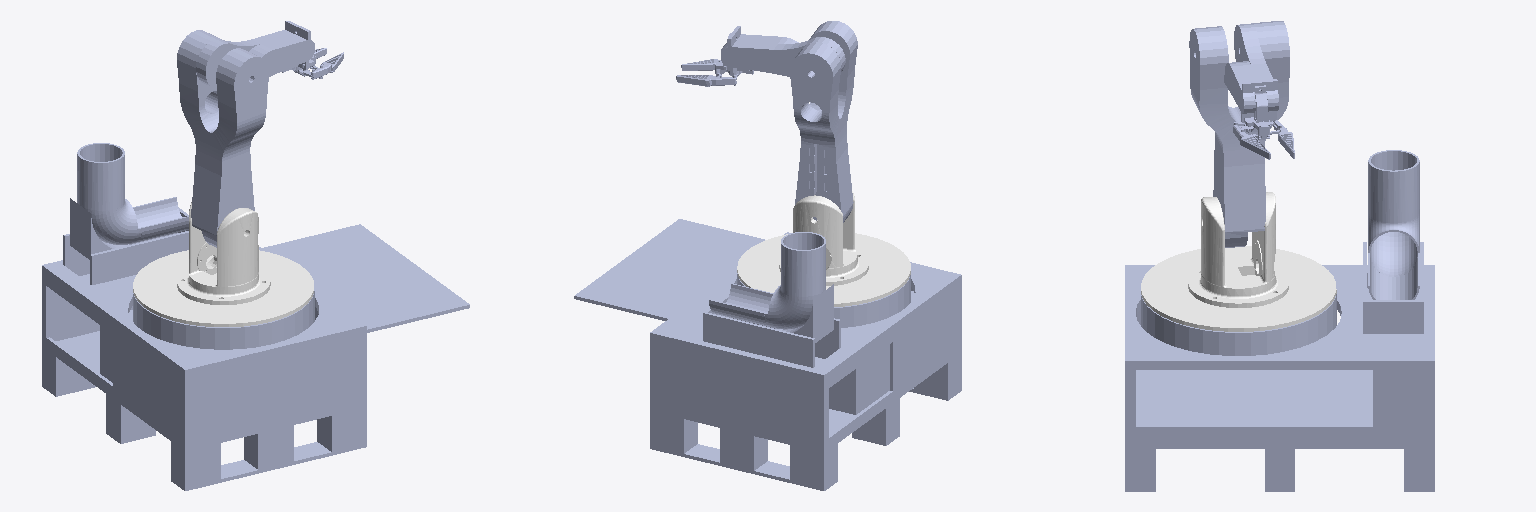
URDF robot description (ensamble_general_urdf):
<?xml version="1.0" encoding="utf-8"?>
<robot name="ensamble_general_urdf">

  <link name="world"/>
  
  <joint name="fixed_base" type="fixed">
    <parent link="world"/>
    <child link="base"/>
    <origin xyz="0 0 0" rpy="0 0 0"/>
  </joint>

  <link name="base">
    <inertial>
      <origin xyz="0.010178 0.038491 -0.014831" rpy="0 0 0" />
      <mass value="2.0149" />
      <inertia ixx="0.0085235" ixy="-0.00017067" ixz="5.7052E-06" iyy="0.0060164" iyz="7.0109E-07" izz="0.013833" />
    </inertial>
    <visual>
      <origin xyz="0 0 0" rpy="0 0 0" />
      <geometry><mesh filename="package://ensamble_general_urdf/meshes/base.STL" /></geometry>
      <material name=""><color rgba="0.79216 0.81961 0.93333 1" /></material>
    </visual>
    <collision>
      <origin xyz="0 0 0" rpy="0 0 0" />
      <geometry><mesh filename="package://ensamble_general_urdf/meshes/base.STL" /></geometry>
    </collision>
  </link>

  <link name="base_giratoria">
    <inertial>
      <origin xyz="0.00033752 -0.001741 0.072369" rpy="0 0 0" />
      <mass value="0.27811" />
      <inertia ixx="0.00049503" ixy="8.8993E-06" ixz="8.5811E-07" iyy="0.00045597" iyz="-3.449E-06" izz="0.00066548" />
    </inertial>
    <visual>
      <origin xyz="0 0 0" rpy="0 0 0" />
      <geometry><mesh filename="package://ensamble_general_urdf/meshes/base_giratoria.STL" /></geometry>
      <material name=""><color rgba="1 1 1 1" /></material>
    </visual>
    <collision>
      <origin xyz="0 0 0" rpy="0 0 0" />
      <geometry><mesh filename="package://ensamble_general_urdf/meshes/base_giratoria.STL" /></geometry>
    </collision>
  </link>

  <joint name="joint_1" type="revolute">
    <origin xyz="0 0 0" rpy="0 0 0" />
    <parent link="base" />
    <child link="base_giratoria" />
    <axis xyz="0 0 1" />
    <limit lower="-3.142" upper="3.142" effort="100" velocity="2" />
    <dynamics damping="10.0" friction="1.0"/>
  </joint>

  <link name="eslabon_inferior">
    <inertial>
      <origin xyz="1.5352E-05 -0.10329 -0.0044136" rpy="0 0 0" />
      <mass value="0.41558" />
      <inertia ixx="0.0018786" ixy="2.3501E-07" ixz="-6.101E-09" iyy="0.00029838" iyz="4.1124E-05" izz="0.001729" />
    </inertial>
    <visual>
      <origin xyz="0 0 0" rpy="0 0 0" />
      <geometry><mesh filename="package://ensamble_general_urdf/meshes/eslabon_inferior.STL" /></geometry>
      <material name=""><color rgba="0.79216 0.81961 0.93333 1" /></material>
    </visual>
    <collision>
      <origin xyz="0 0 0" rpy="0 0 0" />
      <geometry><mesh filename="package://ensamble_general_urdf/meshes/eslabon_inferior.STL" /></geometry>
    </collision>
  </link>

  <joint name="joint_2" type="revolute">
    <origin xyz="-0.000747 0.0031495 0.1265" rpy="-1.5708 0 0.21508" />
    <parent link="base_giratoria" />
    <child link="eslabon_inferior" />
    <axis xyz="0 0 1" />
    <limit lower="-1.57" upper="1.57" effort="100" velocity="2" />
    <dynamics damping="15.0" friction="2.0"/>
  </joint>

  <link name="eslabon_superior">
    <inertial>
      <origin xyz="0.045973 0.0091436 0.0037482" rpy="0 0 0" />
      <mass value="0.10171" />
      <inertia ixx="2.2964E-05" ixy="-1.8224E-05" ixz="3.239E-06" iyy="0.00013717" iyz="1.3359E-06" izz="0.00014073" />
    </inertial>
    <visual>
      <origin xyz="0 0 0" rpy="0 0 0" />
      <geometry><mesh filename="package://ensamble_general_urdf/meshes/eslabon_superior.STL" /></geometry>
      <material name=""><color rgba="0.79216 0.81961 0.93333 1" /></material>
    </visual>
    <collision>
      <origin xyz="0 0 0" rpy="0 0 0" />
      <geometry><mesh filename="package://ensamble_general_urdf/meshes/eslabon_superior.STL" /></geometry>
    </collision>
  </link>

  <joint name="joint_3" type="revolute">
    <origin xyz="2.6757E-05 -0.18 -0.0027601" rpy="0 0.075039 -0.10127" />
    <parent link="eslabon_inferior" />
    <child link="eslabon_superior" />
    <axis xyz="-0.074969 0 0.99719" />
    <limit lower="0" upper="1.57" effort="100" velocity="2" />
    <dynamics damping="10.0" friction="1.0"/>
  </joint>

  <link name="soporte_pinza">
    <inertial>
      <origin xyz="0.013114 0.0050536 0.0047901" rpy="0 0 0" />
      <mass value="0.012112" />
      <inertia ixx="9.8016E-07" ixy="-1.2907E-07" ixz="8.2249E-08" iyy="1.2854E-06" iyz="5.9575E-08" izz="8.0378E-07" />
    </inertial>
    <visual>
      <origin xyz="0 0 0" rpy="0 0 0" />
      <geometry><mesh filename="package://ensamble_general_urdf/meshes/soporte_pinza.STL" /></geometry>
      <material name=""><color rgba="0.79216 0.81961 0.93333 1" /></material>
    </visual>
    <collision>
      <origin xyz="0 0 0" rpy="0 0 0" />
      <geometry><mesh filename="package://ensamble_general_urdf/meshes/soporte_pinza.STL" /></geometry>
    </collision>
  </link>

  <joint name="joint_4" type="fixed">
    <origin xyz="0.093465 0.04227 0.0047203" rpy="-1.4926 -0.33132 -1.4222" />
    <parent link="eslabon_superior" />
    <child link="soporte_pinza" />
    <axis xyz="0 0 0" />
    <limit lower="0" upper="0" effort="100" velocity="2" />
  </joint>

  <link name="dedo_1">
    <inertial>
      <origin xyz="0.022829 -0.0090327 0.0026146" rpy="0 0 0" />
      <mass value="0.0031986" />
      <inertia ixx="6.055E-08" ixy="-4.8228E-08" ixz="2.7123E-10" iyy="2.6162E-07" iyz="-1.4137E-10" izz="2.8917E-07" />
    </inertial>
    <visual>
      <origin xyz="0 0 0" rpy="0 0 0" />
      <geometry><mesh filename="package://ensamble_general_urdf/meshes/dedo_1.STL" /></geometry>
      <material name=""><color rgba="0.79216 0.81961 0.93333 1" /></material>
    </visual>
    <collision>
      <origin xyz="0 0 0" rpy="0 0 0" />
      <geometry><mesh filename="package://ensamble_general_urdf/meshes/dedo_1.STL" /></geometry>
    </collision>
  </link>

  <joint name="joint_5" type="revolute">
    <origin xyz="-0.0065469 0.0092105 0.0059454" rpy="-1.5708 -1.4417 -1.2515" />
    <parent link="soporte_pinza" />
    <child link="dedo_1" />
    <axis xyz="0 0 -1" />
    <limit lower="0" upper="0.8" effort="10" velocity="1" />
    <dynamics damping="1.0" friction="1.0"/>
  </joint>

  <link name="dedo_2">
    <inertial>
      <origin xyz="0.024055 0.012408 -0.0014123" rpy="0 0 0" />
      <mass value="0.0031653" />
      <inertia ixx="6.32E-08" ixy="4.7422E-08" ixz="-2.749E-10" iyy="2.6133E-07" iyz="-1.2481E-10" izz="2.916E-07" />
    </inertial>
    <visual>
      <origin xyz="0 0 0" rpy="0 0 0" />
      <geometry><mesh filename="package://ensamble_general_urdf/meshes/dedo_2.STL" /></geometry>
      <material name=""><color rgba="0.79216 0.81961 0.93333 1" /></material>
    </visual>
    <collision>
      <origin xyz="0 0 0" rpy="0 0 0" />
      <geometry><mesh filename="package://ensamble_general_urdf/meshes/dedo_2.STL" /></geometry>
    </collision>
  </link>

  <joint name="joint_6" type="revolute">
    <origin xyz="-0.001258 -0.0004159 0.0058" rpy="-1.5708 -1.305 -1.2515" />
    <parent link="soporte_pinza" />
    <child link="dedo_2" />
    <axis xyz="0 0 -1" />
    <limit lower="-0.8" upper="0" effort="10" velocity="1" />
    <dynamics damping="1.0" friction="1.0"/>
  </joint>

  <gazebo>
    <plugin filename="gz-sim-joint-state-publisher-system" name="gz::sim::systems::JointStatePublisher">
      <joint_name>joint_1</joint_name>
      <joint_name>joint_2</joint_name>
      <joint_name>joint_3</joint_name>
      <joint_name>joint_5</joint_name>
      <joint_name>joint_6</joint_name>
    </plugin>
    
    <plugin filename="gz-sim-joint-position-controller-system" name="gz::sim::systems::JointPositionController">
      <joint_name>joint_1</joint_name><topic>/model/ensamble_general_urdf/joint/joint_1/cmd_pos</topic>
      <p_gain>1000</p_gain><d_gain>50</d_gain> 
    </plugin>
    <plugin filename="gz-sim-joint-position-controller-system" name="gz::sim::systems::JointPositionController">
      <joint_name>joint_2</joint_name><topic>/model/ensamble_general_urdf/joint/joint_2/cmd_pos</topic>
      <p_gain>2000</p_gain><d_gain>100</d_gain>
    </plugin>
    <plugin filename="gz-sim-joint-position-controller-system" name="gz::sim::systems::JointPositionController">
      <joint_name>joint_3</joint_name><topic>/model/ensamble_general_urdf/joint/joint_3/cmd_pos</topic>
      <p_gain>1000</p_gain><d_gain>50</d_gain>
    </plugin>
    <plugin filename="gz-sim-joint-position-controller-system" name="gz::sim::systems::JointPositionController">
      <joint_name>joint_5</joint_name><topic>/model/ensamble_general_urdf/joint/joint_5/cmd_pos</topic>
      <p_gain>10</p_gain><d_gain>1</d_gain>
    </plugin>
    <plugin filename="gz-sim-joint-position-controller-system" name="gz::sim::systems::JointPositionController">
      <joint_name>joint_6</joint_name><topic>/model/ensamble_general_urdf/joint/joint_6/cmd_pos</topic>
      <p_gain>10</p_gain><d_gain>1</d_gain>
    </plugin>
  </gazebo>
<gazebo>
    <plugin filename="gz-sim-joint-position-controller-system" 
            name="gz::sim::systems::JointPositionController">
      <joint_name>joint_1</joint_name>
      <topic>/model/ensamble_general_urdf/joint/joint_1/cmd_pos</topic>
      <p_gain>1000.0</p_gain>
      <i_gain>0.1</i_gain>
      <d_gain>10.0</d_gain>
    </plugin>
  </gazebo>

  <gazebo>
    <plugin filename="gz-sim-joint-position-controller-system" 
            name="gz::sim::systems::JointPositionController">
      <joint_name>joint_2</joint_name>
      <topic>/model/ensamble_general_urdf/joint/joint_2/cmd_pos</topic>
      <p_gain>1000.0</p_gain>
      <i_gain>0.1</i_gain>
      <d_gain>10.0</d_gain>
    </plugin>
  </gazebo>

  <gazebo>
    <plugin filename="gz-sim-joint-position-controller-system" 
            name="gz::sim::systems::JointPositionController">
      <joint_name>joint_3</joint_name>
      <topic>/model/ensamble_general_urdf/joint/joint_3/cmd_pos</topic>
      <p_gain>1000.0</p_gain>
      <i_gain>0.1</i_gain>
      <d_gain>10.0</d_gain>
    </plugin>
  </gazebo>
</robot>

--- Facts derived from the render (not from the file) ---
3 views of the same robot in one strip: view 1: azimuth 30°, elevation 25°; view 2: azimuth 150°, elevation 25°; view 3: azimuth 270°, elevation 25° (orthographic).
Model ensamble_general_urdf with 8 links and 7 joints (5 revolute, 2 fixed), rooted at world, posed every joint at zero.
Visible links, largest first — view 1: base, base_giratoria, eslabon_inferior, eslabon_superior; view 2: base, eslabon_inferior, base_giratoria, eslabon_superior, dedo_2; view 3: base, base_giratoria, eslabon_inferior, eslabon_superior, soporte_pinza, dedo_1.
Link boxes in pixels (box(x1,y1,x2,y2)): base: box(42, 143, 469, 490); base_giratoria: box(133, 202, 313, 326); eslabon_inferior: box(177, 30, 268, 247); eslabon_superior: box(196, 21, 314, 88); base: box(574, 219, 961, 490); eslabon_inferior: box(790, 21, 857, 222); base_giratoria: box(737, 191, 910, 306); eslabon_superior: box(722, 26, 845, 76); dedo_2: box(676, 73, 739, 86); base: box(1125, 150, 1434, 491); base_giratoria: box(1141, 192, 1336, 331); eslabon_inferior: box(1189, 21, 1289, 247); eslabon_superior: box(1224, 23, 1278, 122); soporte_pinza: box(1244, 85, 1270, 139); dedo_1: box(1233, 122, 1270, 159).
Size in the robot's own frame: 0.35 by 0.3 by 0.4454 metres.
Meshes: 7 distinct files referenced, 7 mesh visuals loaded (7 binary STL).
